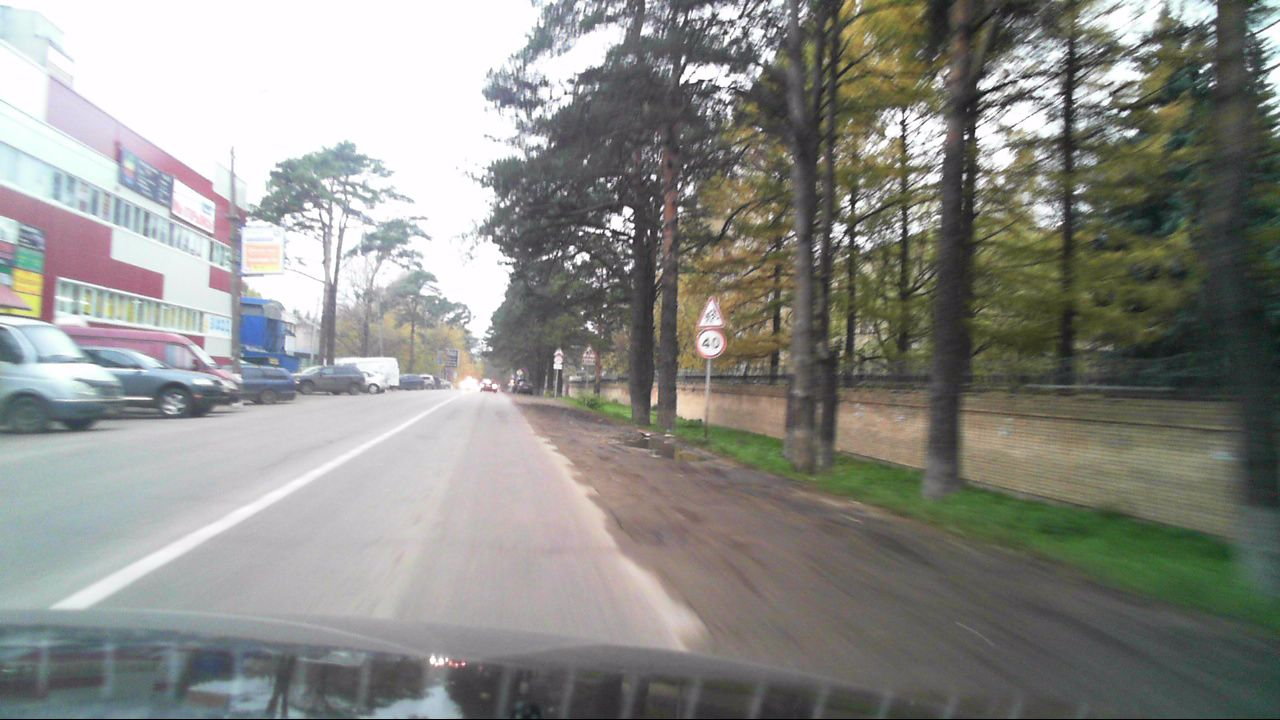speed_warning_40: (694, 328, 727, 359)
